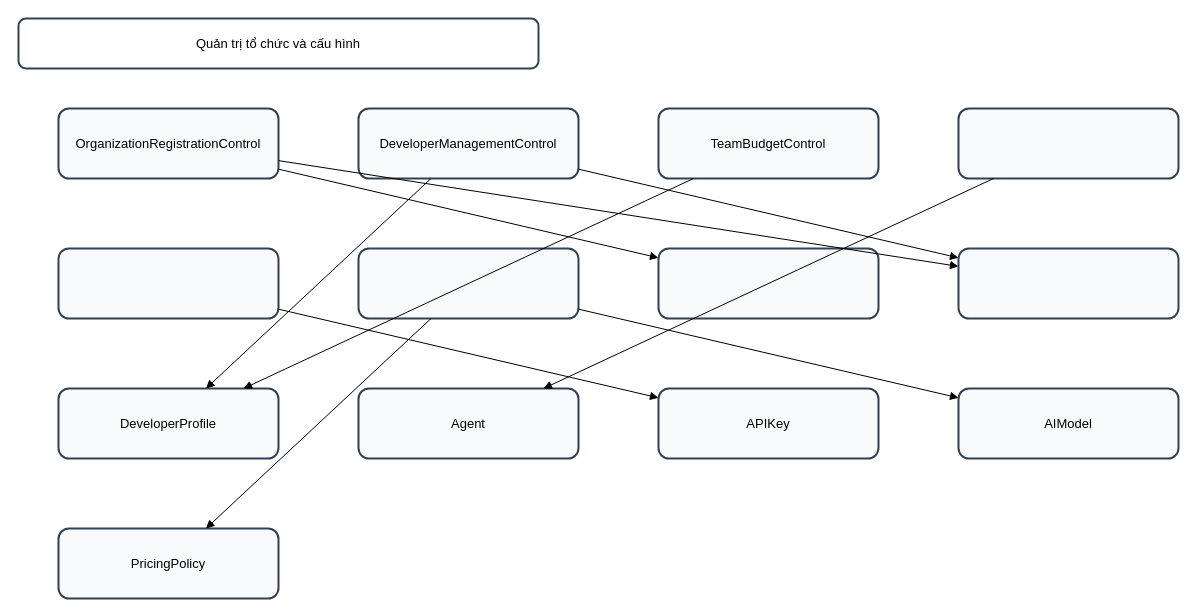
This 1196x616 diagram has some shape labels left out. The shapes that lost their labels are listed below. From the top down, each one's box as (x1, y1, x2, y2) in pixels, then its label:
(957, 107, 1179, 179): AgentBudgetPolicyControl
(57, 247, 279, 319): APIKeyManagementControl
(357, 247, 579, 319): ModelCatalogControl
(657, 247, 879, 319): Organization
(957, 247, 1179, 319): User
